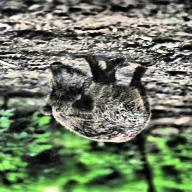boar: (38, 60, 159, 145)
